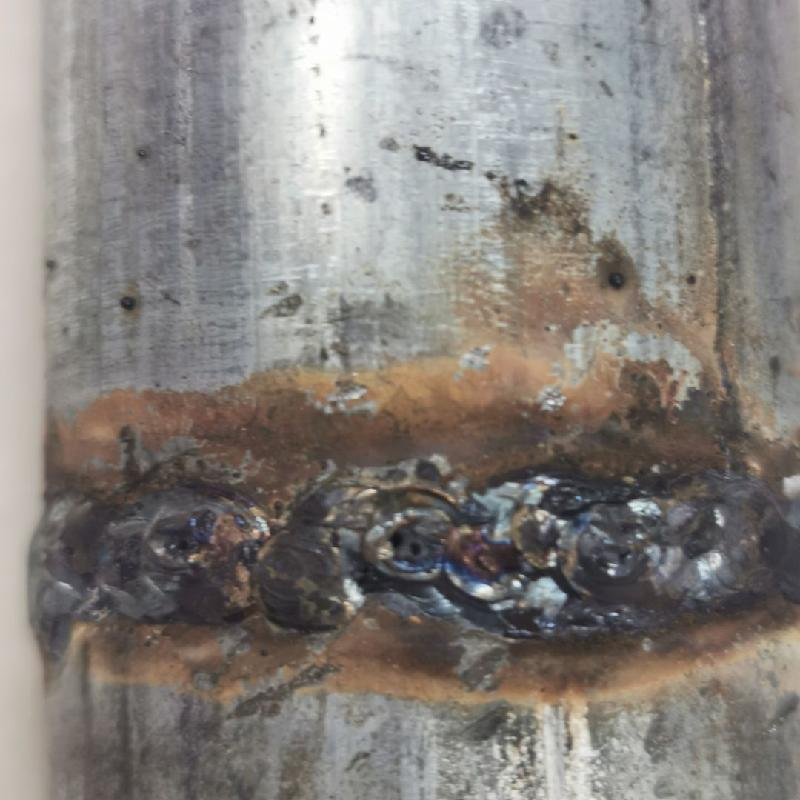Surface_pores: (381, 518, 444, 578), (150, 521, 203, 560)
crater: (358, 487, 656, 626)
wrong_size: (665, 479, 799, 615)
